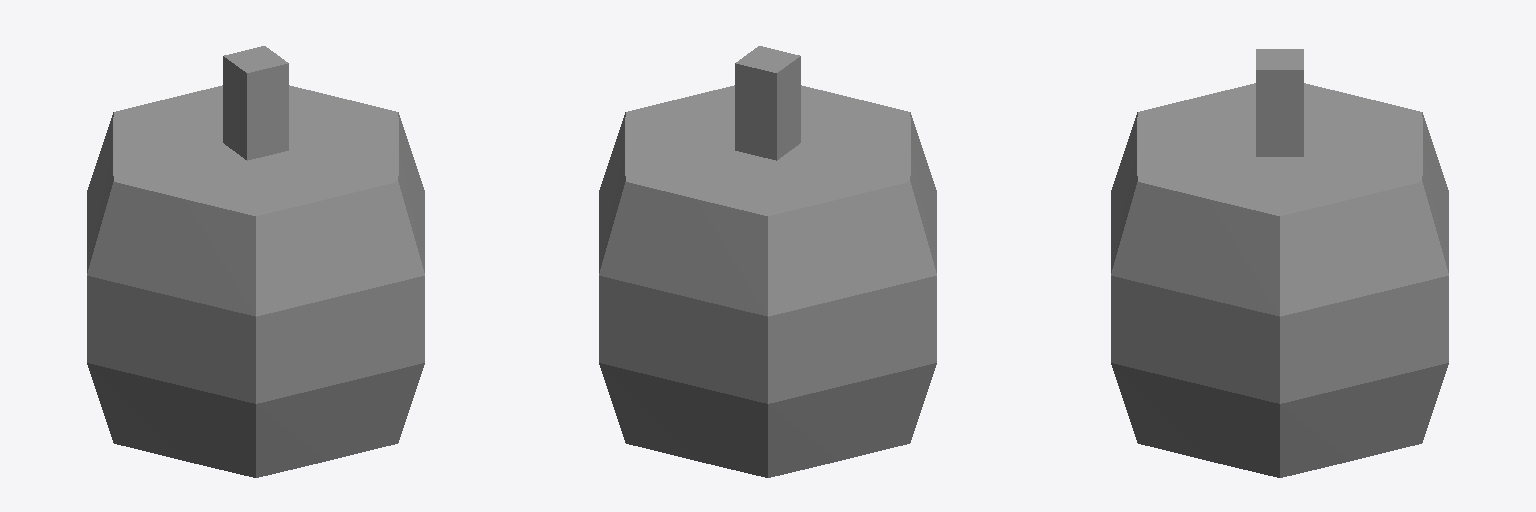
File: pumpkin_01_01_b.obj
3 views of the same model, side by side, from view 1: azimuth 30°, elevation 25°; view 2: azimuth 150°, elevation 25°; view 3: azimuth 270°, elevation 25° (orthographic).
Visible parts, largest first — view 1: pumpkin_01_01_b; view 2: pumpkin_01_01_b; view 3: pumpkin_01_01_b.
Part boxes in pixels (x1,y1,x2,y2): pumpkin_01_01_b: (87,46,424,477); pumpkin_01_01_b: (599,46,936,477); pumpkin_01_01_b: (1111,49,1448,477).
Bounding box in the file's own units: 0.6737 × 0.747 × 0.5834.